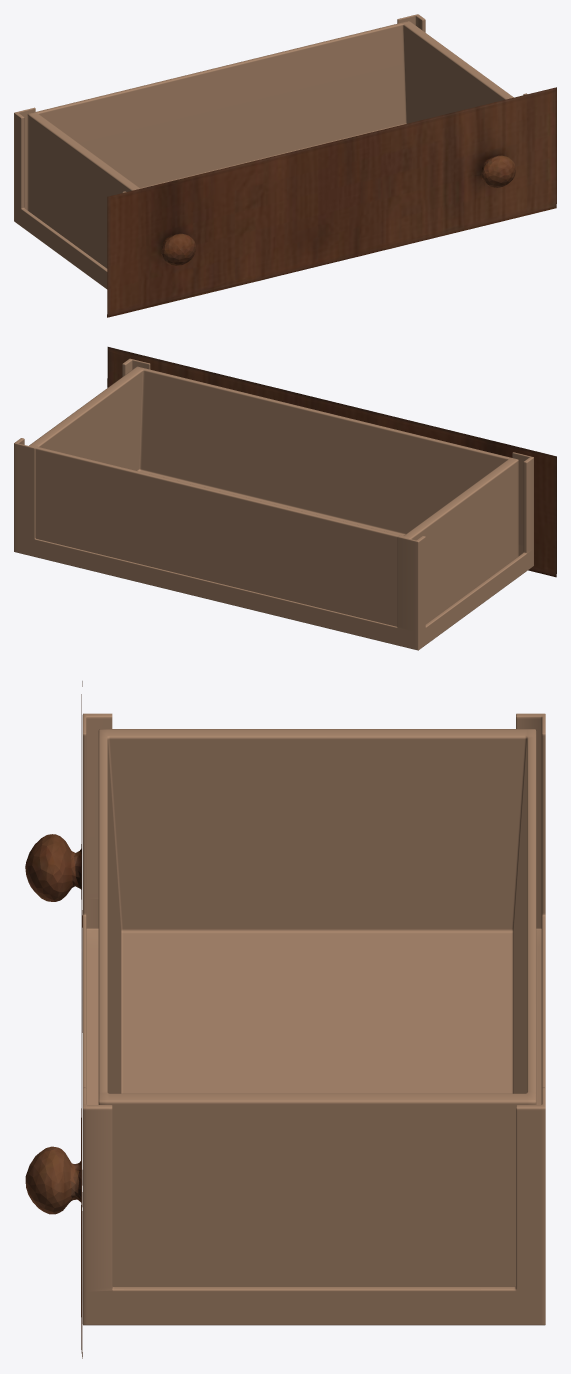
Rendered from drawer_4.glb.
3 views of the same model, one above another, from view 1: azimuth 30°, elevation 25°; view 2: azimuth 150°, elevation 25°; view 3: azimuth 270°, elevation 25° (orthographic). The views are drawn at different scales.
Parts seen in each view (by area): view 1: source_front_cap_0, prefab_drawer_body_4; view 2: prefab_drawer_body_4, source_front_cap_0; view 3: prefab_drawer_body_4, source_front_cap_0.
Boxes of the visible parts, x1,y1,x2,y2 form: source_front_cap_0: (107,87,556,317); prefab_drawer_body_4: (14,14,527,289); prefab_drawer_body_4: (14,358,533,650); source_front_cap_0: (107,347,556,577); prefab_drawer_body_4: (82,713,545,1325); source_front_cap_0: (25,681,82,1358).
Bounding box in the file's own units: 0.8147 × 0.2096 × 0.4085.
2 materials, 1 textured.
